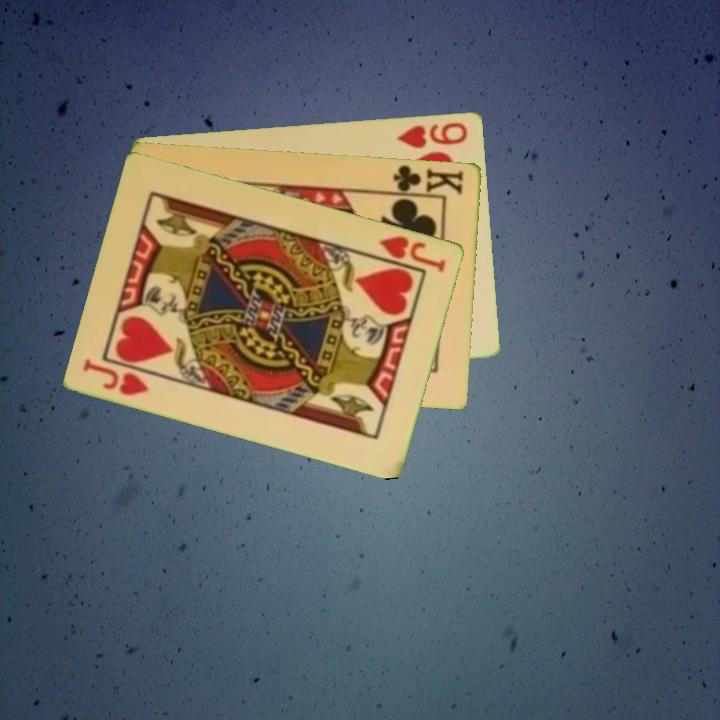9h: (394, 118, 471, 151)
Jh: (366, 232, 449, 275), (80, 355, 153, 399)
Kc: (386, 161, 467, 198)
